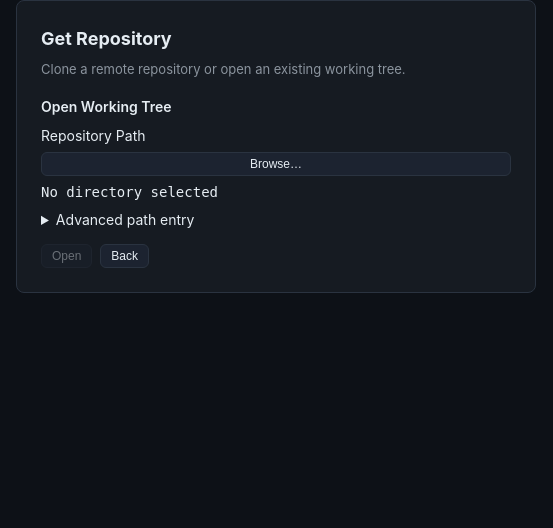
onboarding children report backend truth › ClientClone invalidates visible success when repository inputs change
The image size is (553, 528).
Click the heading "Advanced path entry" at x=125, y=219, box x1=56 y1=210 x2=194 y2=228
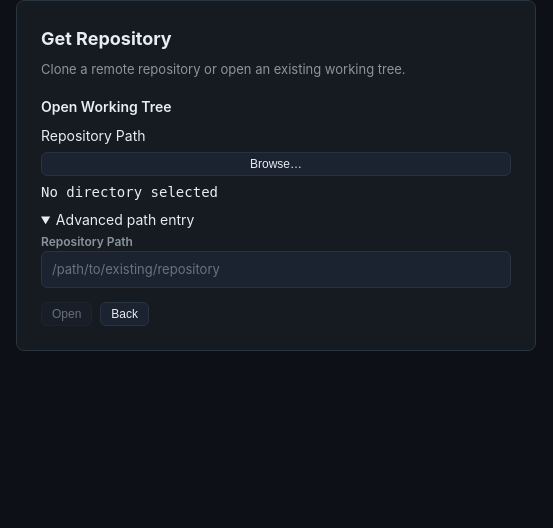
Type "/repo" into the field labelled "Repository Path" at x=276, y=269, box x1=41 y1=250 x2=511 y2=288
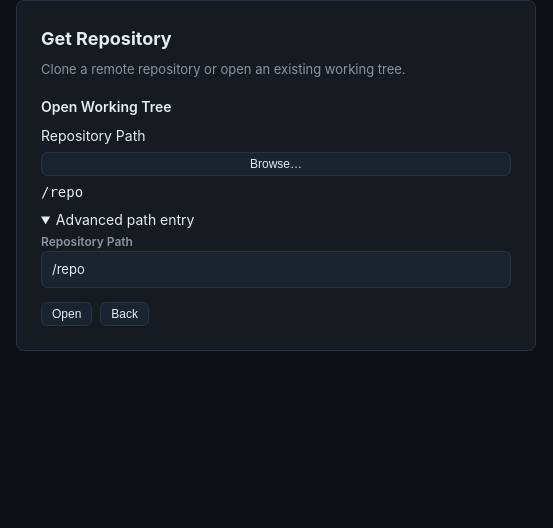
Click the button "Open" at x=67, y=314, box x1=41 y1=302 x2=92 y2=326
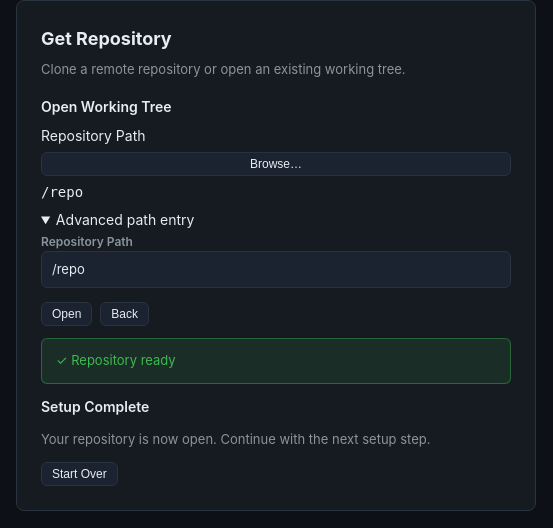
Expected: the text "✓ Repository ready" is shown, x1=41 y1=338 x2=511 y2=384
Replace the text in the field labelled "Repository Path" with "/different" at x=276, y=269, box x1=41 y1=250 x2=511 y2=288
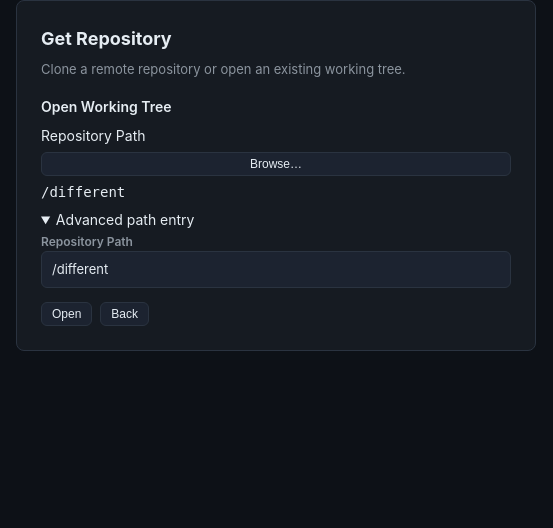
Expected: the text "✓ Repository ready" is gone
